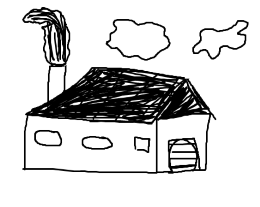clouds: (94, 6, 175, 65), (189, 7, 254, 66)
door: (162, 132, 204, 182)
open_window: (30, 127, 65, 149), (80, 131, 115, 150), (125, 135, 156, 153)
shaded_roof: (21, 65, 224, 125)
smoking_chimney: (19, 2, 73, 99)
wall: (18, 108, 159, 177)
